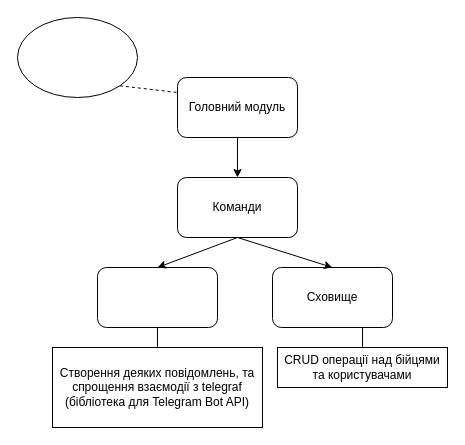
Some shapes in this 465 by 445 pixel diagram are drawn without their labels. Here are the shapes that lost their labels. From the top down, the centre of each, then its label:
At (x=77, y=57): "Повідомлення від бота".
At (x=157, y=297): "Інтерфейс".
